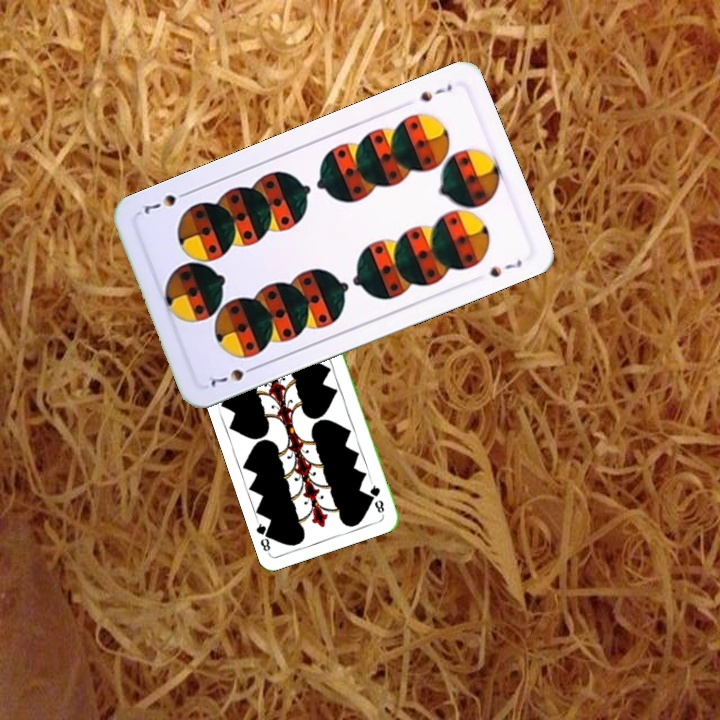G8: (366, 478, 387, 516)
S7: (207, 361, 260, 389), (416, 79, 455, 105)
